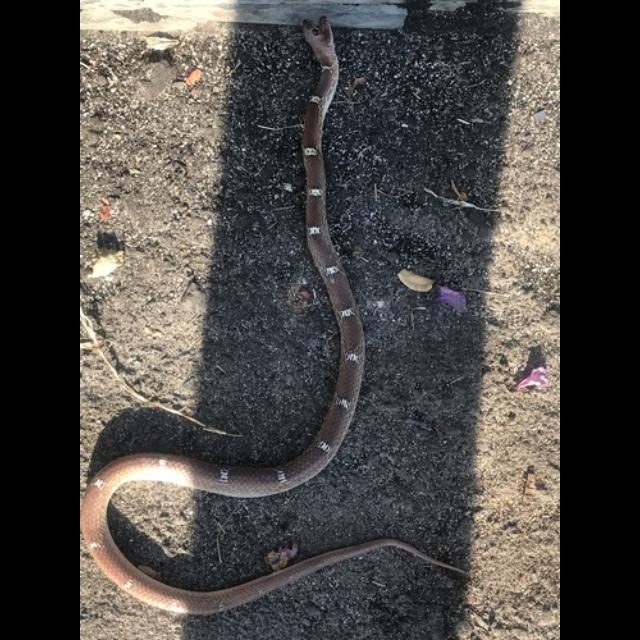snake: (80, 8, 483, 640)
